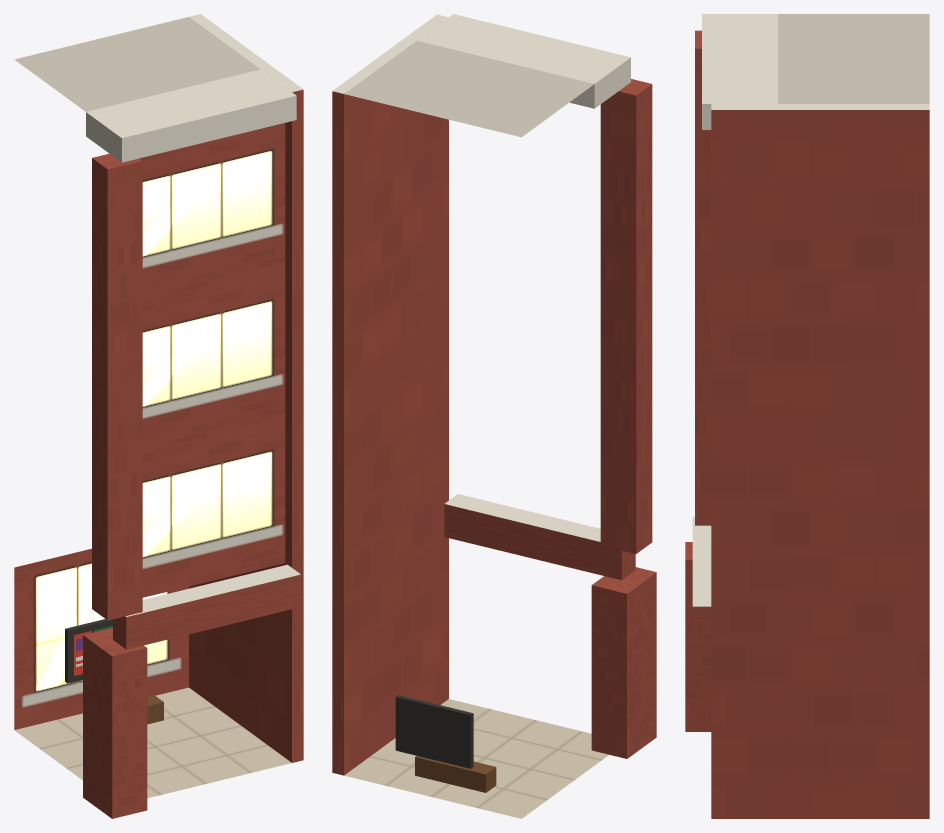
Rendered from sci-eng-arcade.glb.
3 renders of one model, left to right at view 1: azimuth 30°, elevation 25°; view 2: azimuth 150°, elevation 25°; view 3: azimuth 270°, elevation 25°, orthographic. The views are drawn at different scales.
Parts seen in each view (by area): view 1: arcade-bay, arcade-end, arcade-bay-poster; view 2: arcade-bay, arcade-end, arcade-bay-poster; view 3: arcade-end, arcade-bay.
Boxes of the visible parts, x1=… form: arcade-bay: x1=14, y1=17, x2=300, y2=818; arcade-end: x1=189, y1=14, x2=303, y2=762; arcade-bay-poster: x1=65, y1=619, x2=163, y2=724; arcade-bay: x1=344, y1=14, x2=656, y2=818; arcade-end: x1=332, y1=14, x2=448, y2=775; arcade-bay-poster: x1=395, y1=695, x2=496, y2=792; arcade-end: x1=711, y1=104, x2=929, y2=818; arcade-bay: x1=685, y1=14, x2=929, y2=731.
Size of the model in its own units: 5.25 by 16.5 by 5.15.
1 material, 1 textured.
